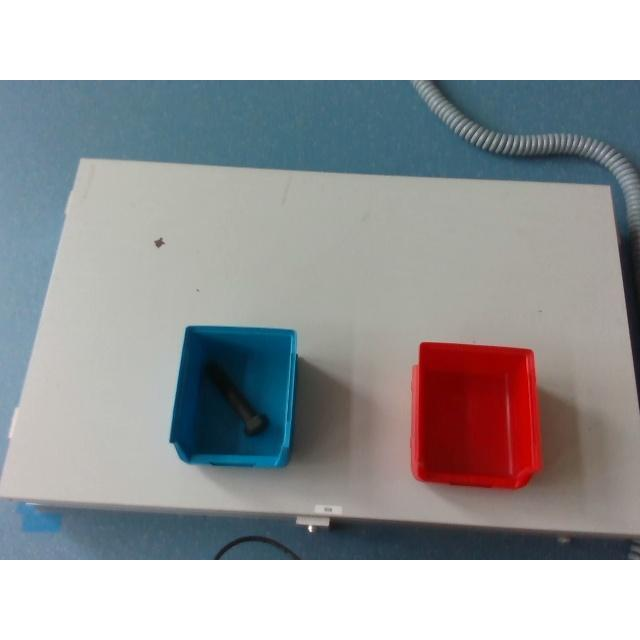M20_100: (202, 357, 270, 435)
container_box_blue: (170, 325, 298, 467)
container_box_red: (410, 340, 542, 490)
